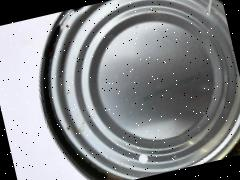metal: (8, 0, 240, 180)
